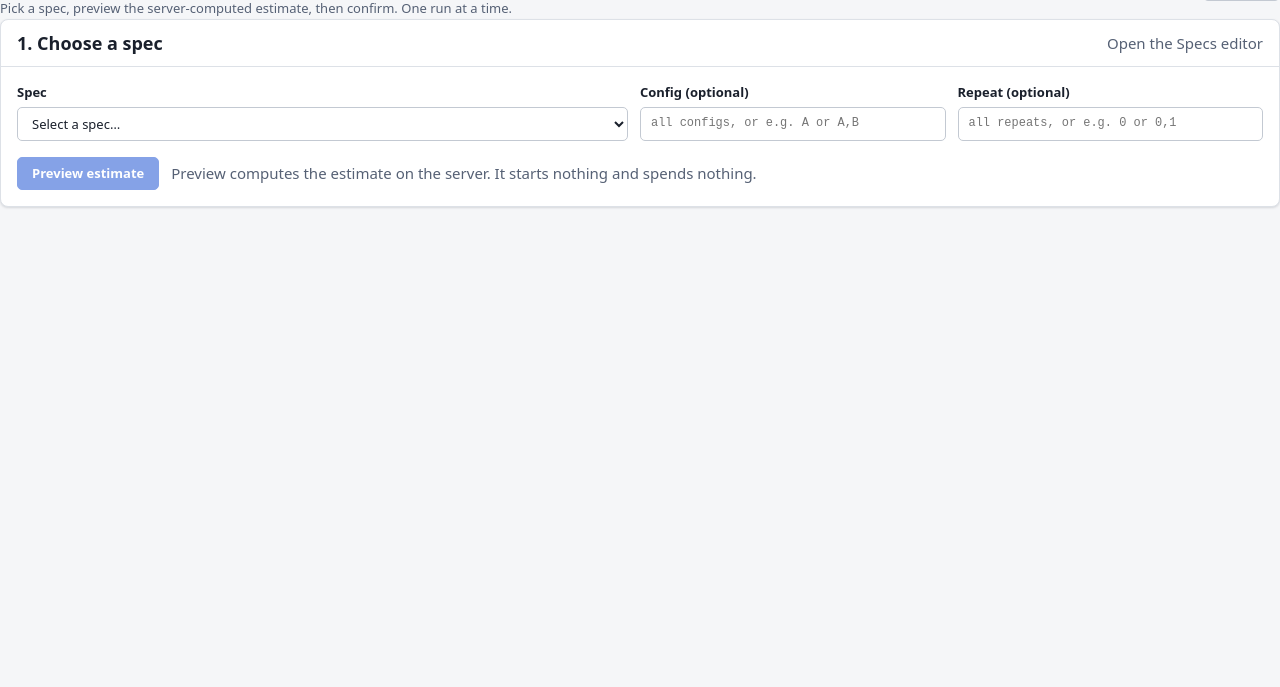
Test: Scripted launch › Esc closes the dialog without launching and returns focus to the opener
Select "pilot-scripted [scripted]" in the dropdown labelled "Spec": (322,124) left=17, top=106, right=628, bottom=140
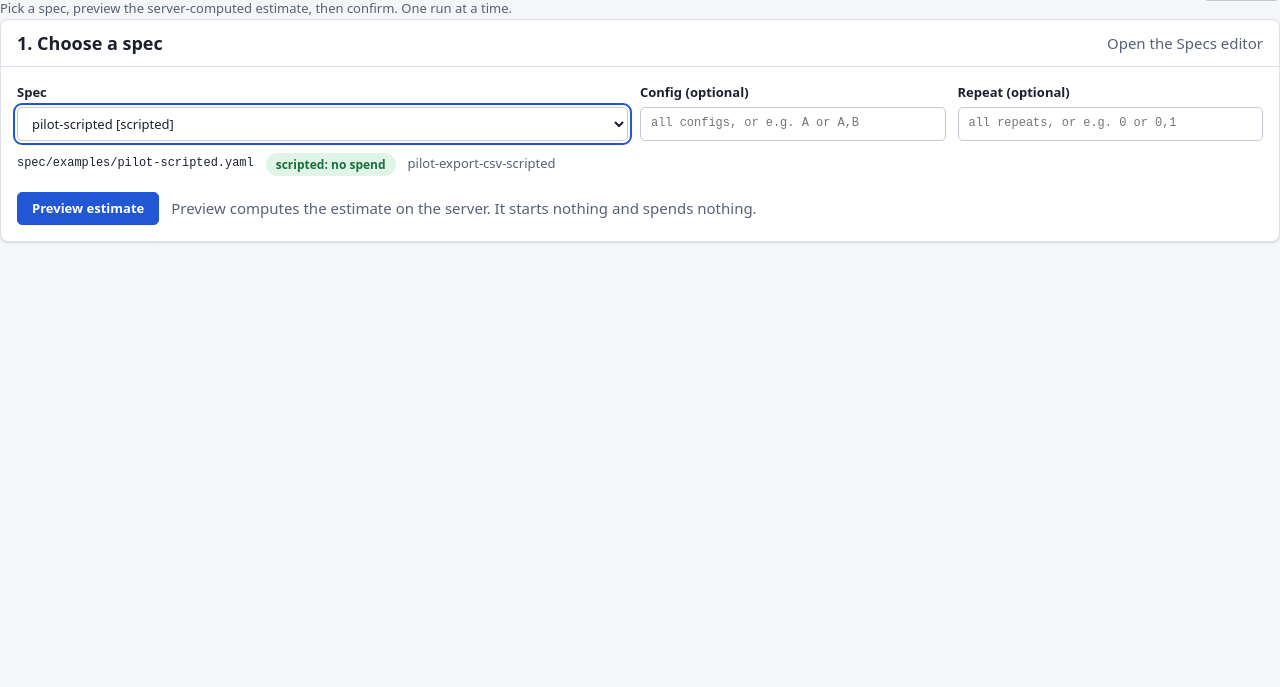
Click the button "Preview estimate": (88,208) left=17, top=192, right=159, bottom=225
(page scrolled)
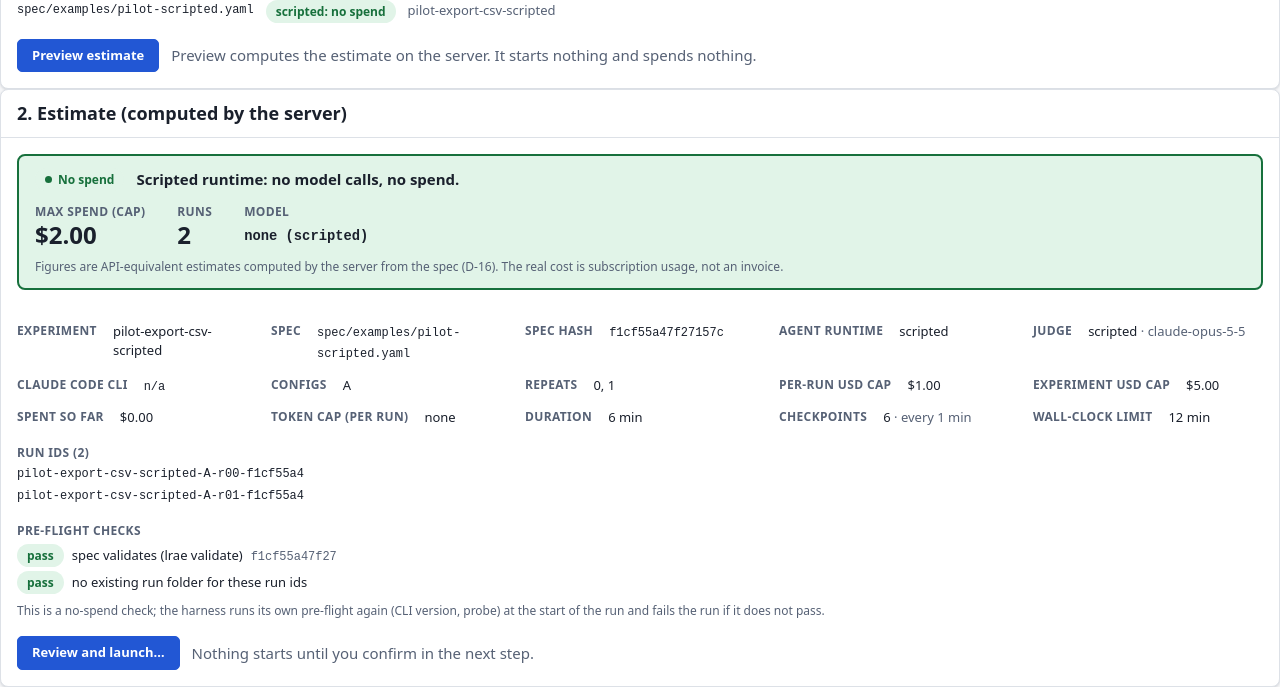
Check: the heading "2. Estimate (computed by the server)" is shown, box left=17, top=102, right=347, bottom=125
Click the button "Review and launch…": (98,653) left=17, top=636, right=180, bottom=670
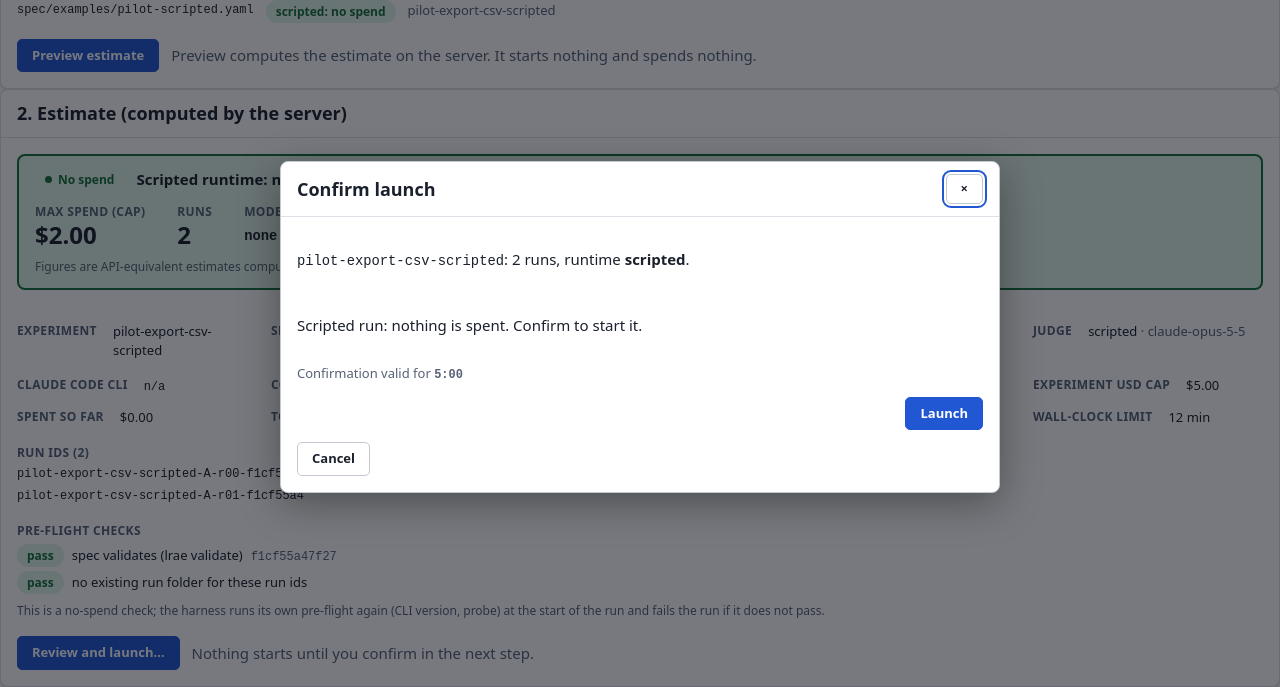
Check: the dialog is shown, box left=280, top=161, right=1000, bottom=493
Press Escape
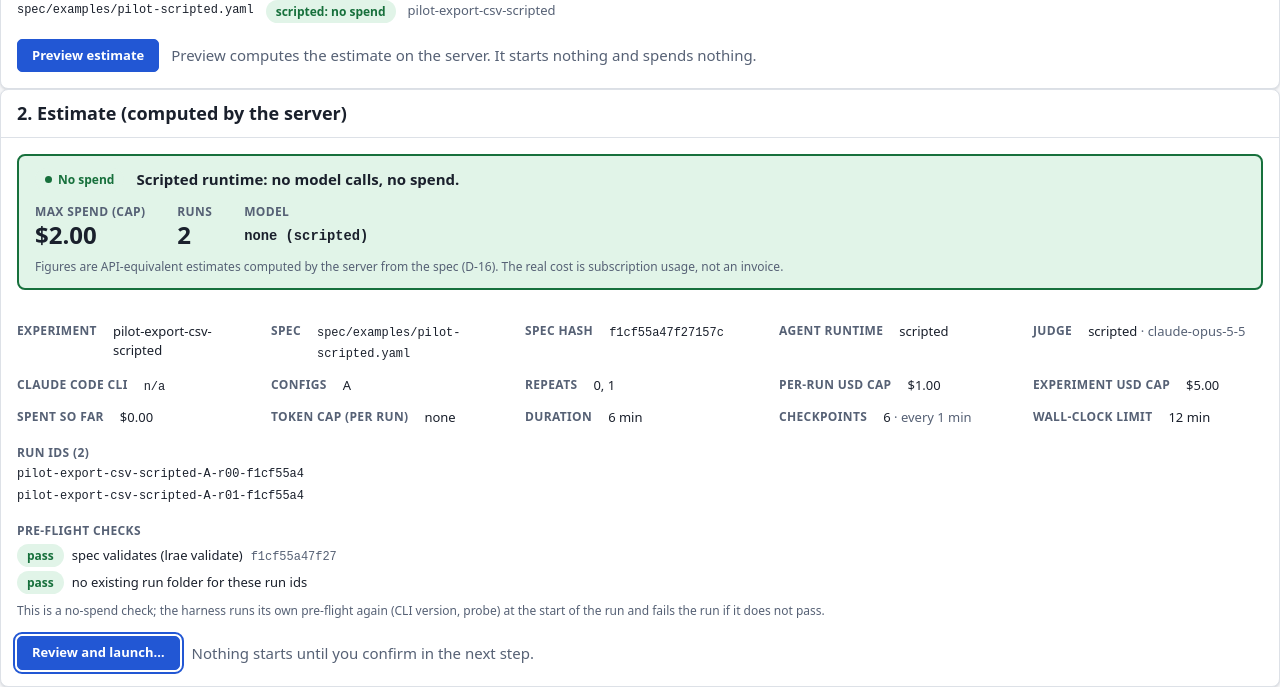
Check: the dialog is gone
